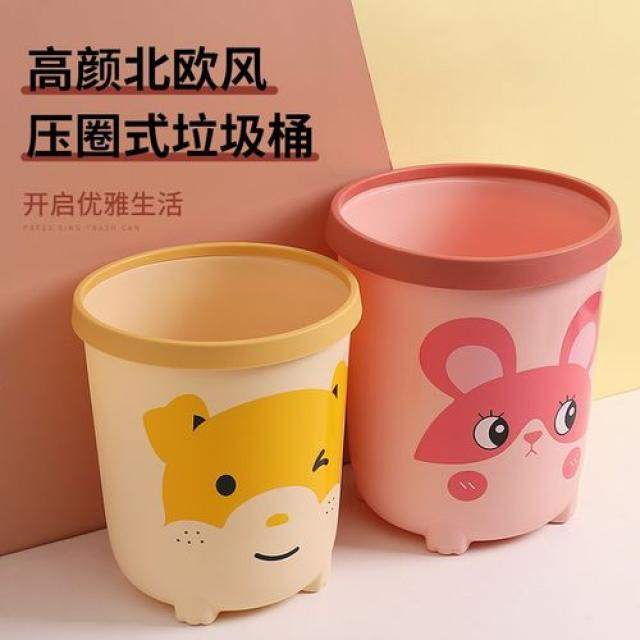dustbin: (324, 153, 628, 560), (65, 233, 367, 626)
